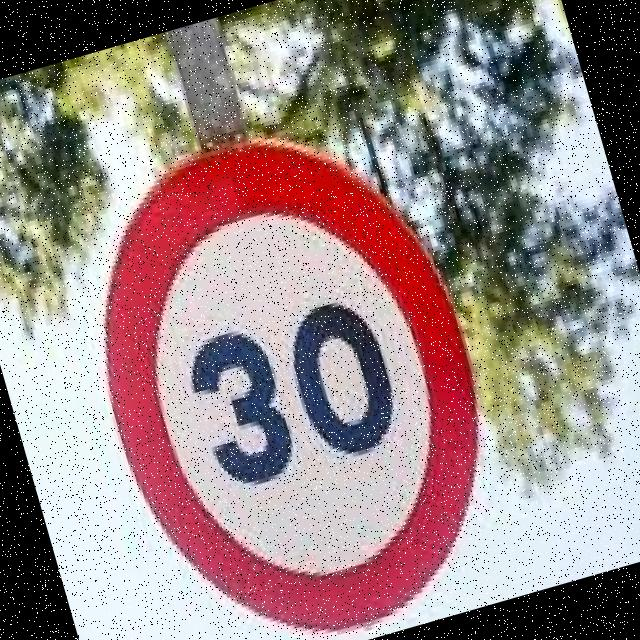speed_limit_30: (42, 93, 539, 640)
